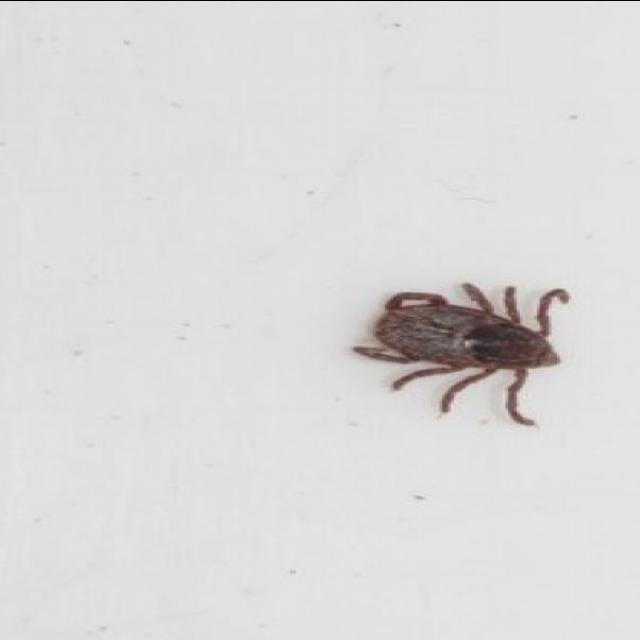Rhipicephalus Sanguineus-F: (347, 283, 569, 427)
